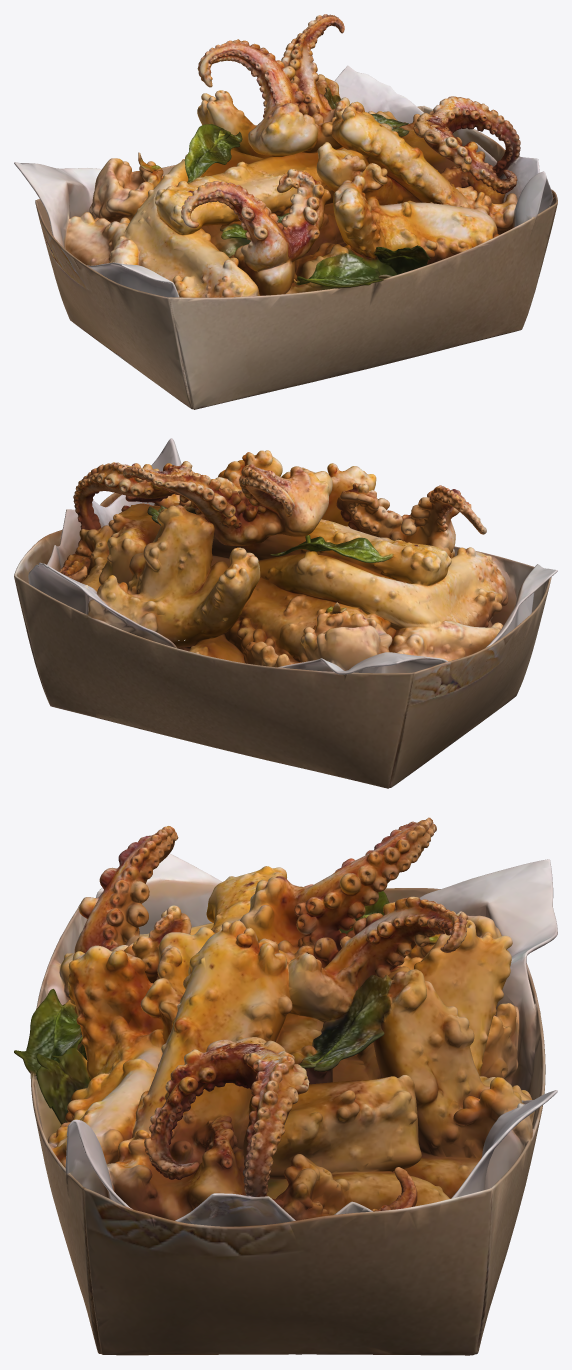
File: calamari.glb
The picture shows the model from 3 angles, top to bottom: view 1: azimuth 30°, elevation 25°; view 2: azimuth 150°, elevation 25°; view 3: azimuth 270°, elevation 25°; orthographic projection. The views are drawn at different scales.
Parts seen in each view (by area): view 1: tripo_node_9f88eab1-dcf3-4b01-8ed0-91e8fbe215de; view 2: tripo_node_9f88eab1-dcf3-4b01-8ed0-91e8fbe215de; view 3: tripo_node_9f88eab1-dcf3-4b01-8ed0-91e8fbe215de.
Part boxes in pixels (<box>): tripo_node_9f88eab1-dcf3-4b01-8ed0-91e8fbe215de: <box>14,14,557,409</box>; tripo_node_9f88eab1-dcf3-4b01-8ed0-91e8fbe215de: <box>14,438,557,788</box>; tripo_node_9f88eab1-dcf3-4b01-8ed0-91e8fbe215de: <box>14,817,557,1355</box>.
Bounding box in the file's own units: 0.9785 × 0.5492 × 0.687.
Materials: 1 (1 with a texture image).
